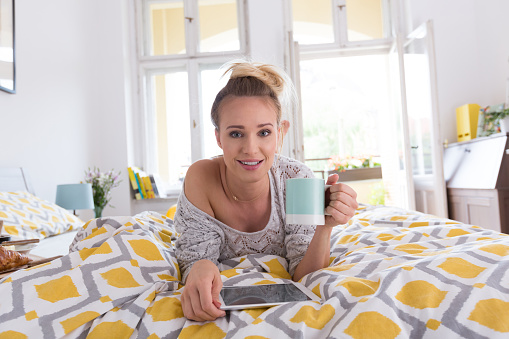deitado: (160, 64, 354, 321)
